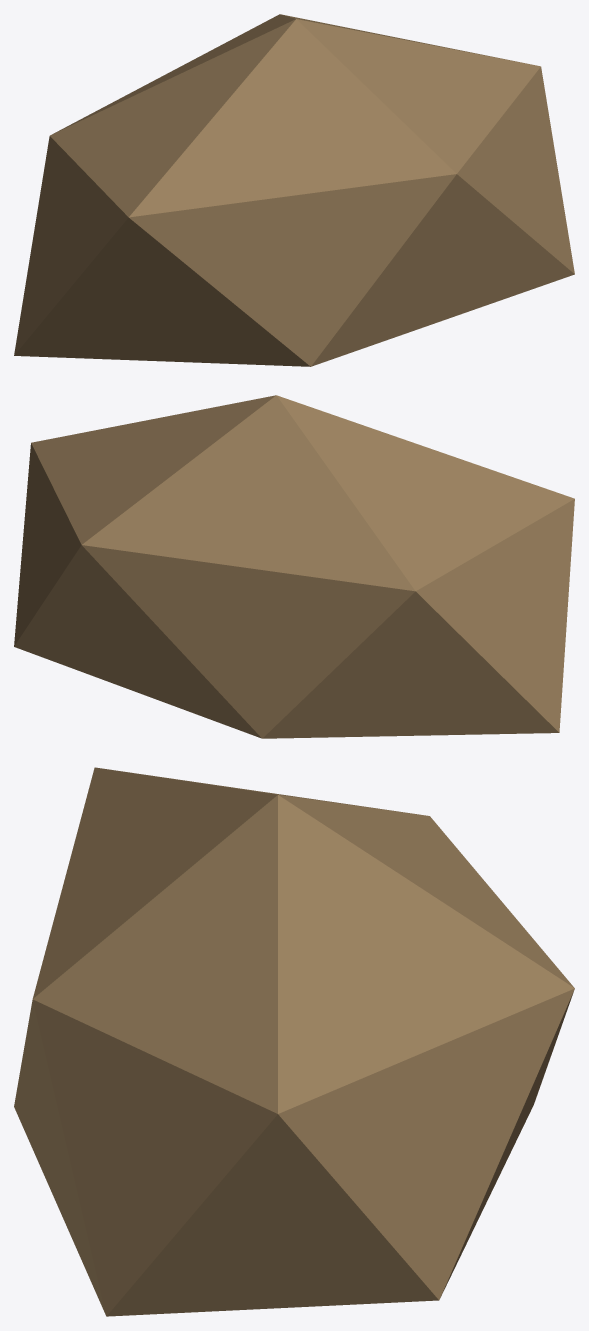
The model's file is item_101_bog_iron_s.glb.
3 renders of one model, top to bottom at view 1: azimuth 30°, elevation 25°; view 2: azimuth 150°, elevation 25°; view 3: azimuth 270°, elevation 25°, orthographic. The views are drawn at different scales.
Parts seen in each view (by area): view 1: item_101_bog_iron_s; view 2: item_101_bog_iron_s; view 3: item_101_bog_iron_s.
Part boxes in pixels (x1,y1,x2,y2): item_101_bog_iron_s: (14,14,574,366); item_101_bog_iron_s: (14,395,574,738); item_101_bog_iron_s: (14,767,574,1316).
Size of the model in its own units: 0.3248 by 0.1971 by 0.2125.
